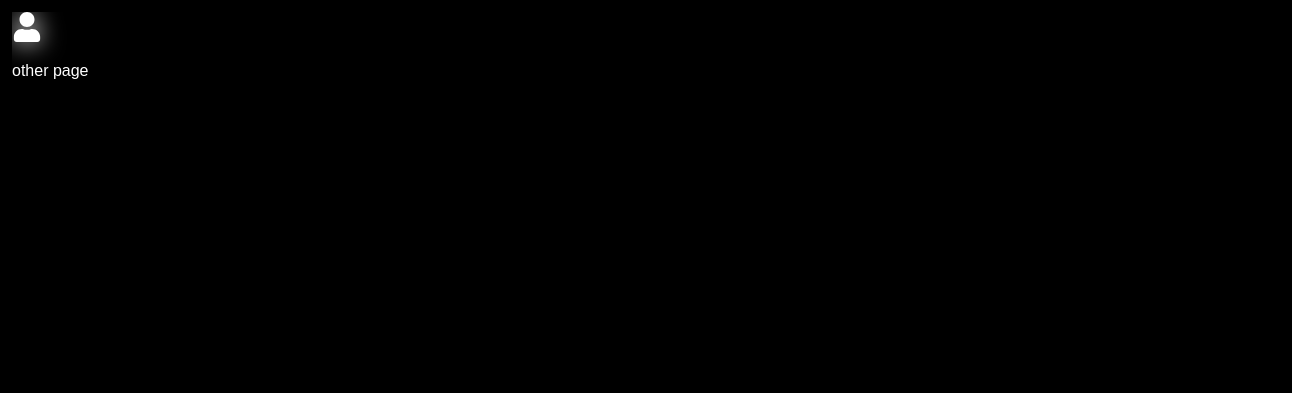
ProfileMenu › signs out: ends the server session, clears the user and goes home
The image size is (1292, 393).
Click the button named "Меню профиля neo": (27, 28) x1=12 y1=12 x2=42 y2=45
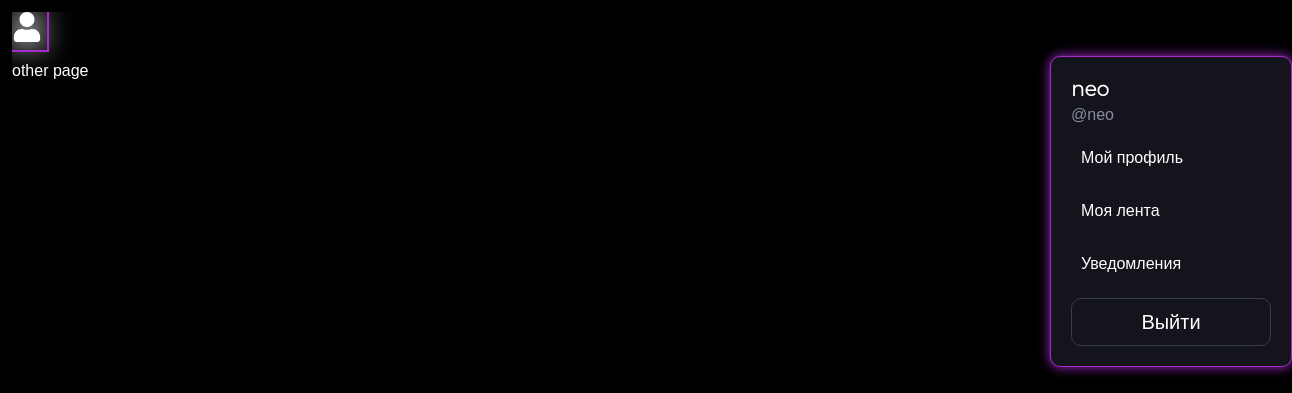
Click the menu item "Выйти": (1171, 322) x1=1071 y1=298 x2=1271 y2=346
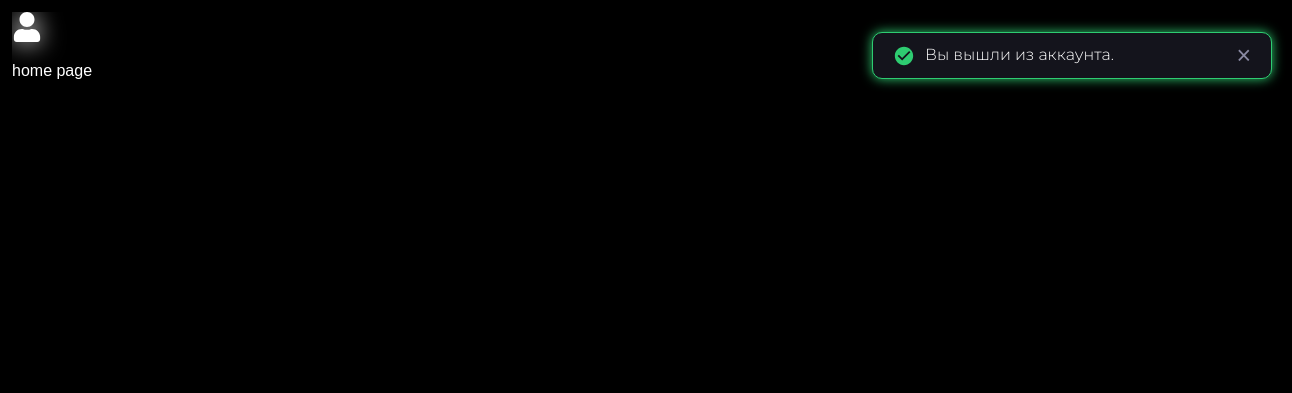
Expected: the link named "Войти" is shown, x1=12 y1=27 x2=42 y2=46
Result: the text "home page" is shown at x1=12 y1=62 x2=92 y2=79
Result: the text "Вы вышли из аккаунта." is shown at x1=925 y1=45 x2=1114 y2=64
